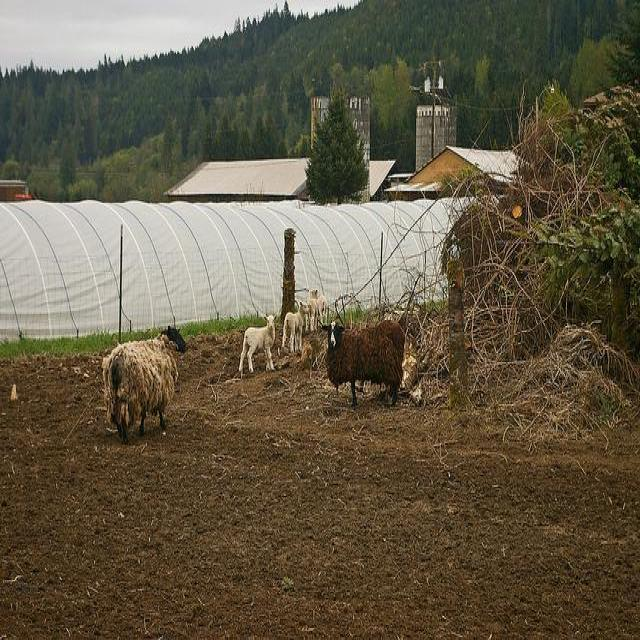Sheep: (103, 326, 187, 443), (322, 320, 404, 406), (239, 314, 277, 374)
